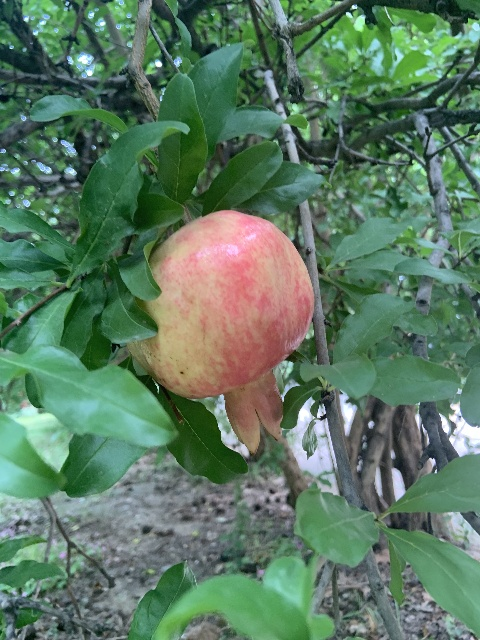ripe: (128, 209, 313, 456)
